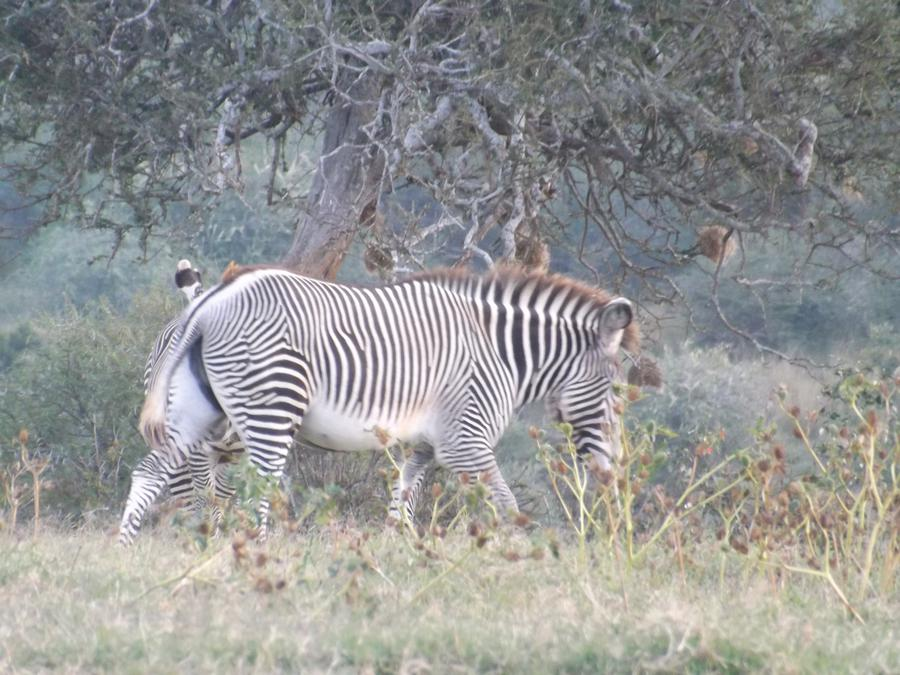zebra_grevys: (194, 246, 502, 434)
